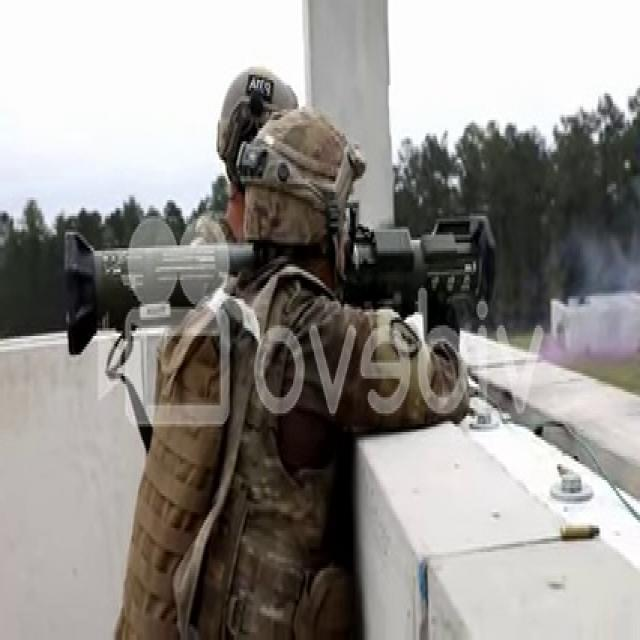rocket: (63, 216, 497, 354)
